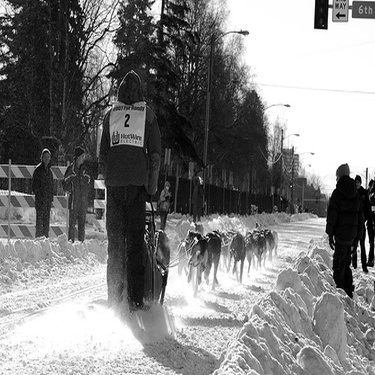dog: (190, 229, 220, 287), (179, 227, 203, 291), (203, 217, 227, 279), (228, 227, 245, 285), (255, 220, 273, 263), (247, 223, 260, 274), (241, 220, 253, 275), (266, 223, 280, 260)
